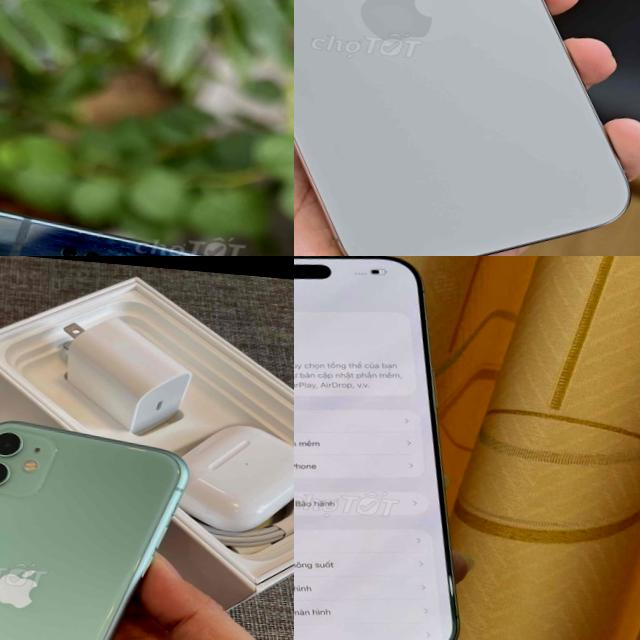gen_11: (0, 399, 187, 640)
gen_12_13: (0, 189, 294, 256)
gen_16: (294, 0, 629, 256), (294, 256, 456, 640)
